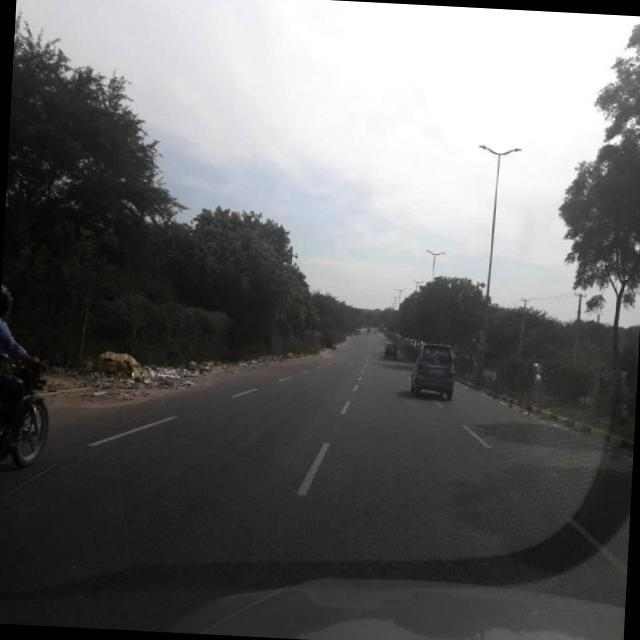pothole: (0, 451, 77, 508), (112, 407, 146, 424)
